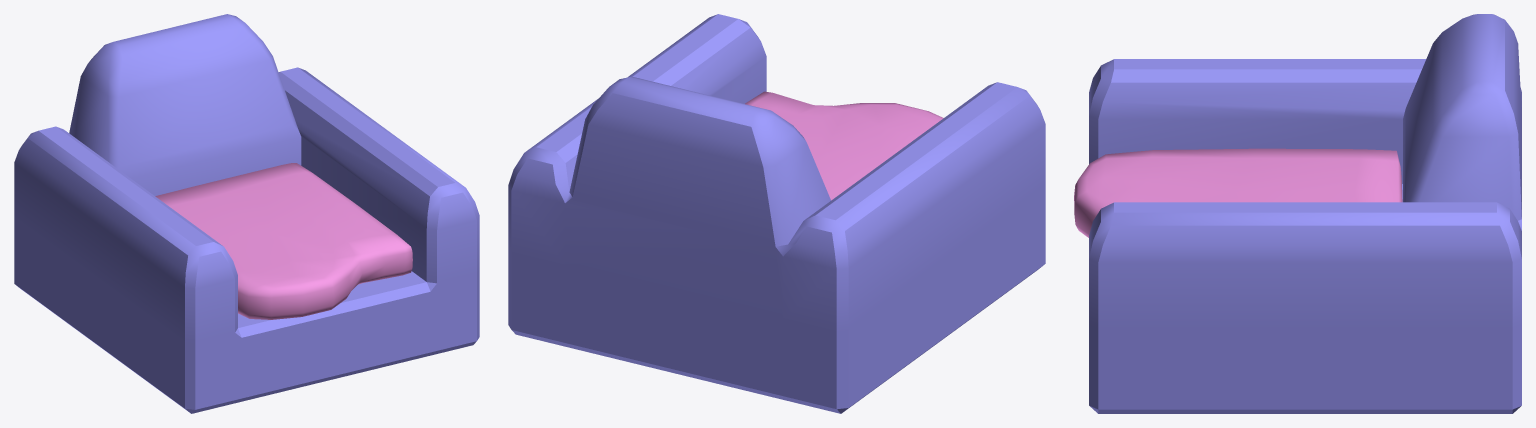
File: butaconFbx.FBX
The picture shows the model from 3 angles, left to right: view 1: azimuth 30°, elevation 25°; view 2: azimuth 150°, elevation 25°; view 3: azimuth 270°, elevation 25°; orthographic projection. The views are drawn at different scales.
Visible parts, largest first — view 1: Box001, buttPillow001; view 2: Box001, buttPillow001; view 3: Box001, buttPillow001.
Boxes of the visible parts, <box> form: Box001: <box>14,14,479,413</box>; buttPillow001: <box>155,163,412,319</box>; Box001: <box>508,14,1045,413</box>; buttPillow001: <box>745,91,943,200</box>; Box001: <box>1089,14,1521,413</box>; buttPillow001: <box>1074,148,1402,237</box>.
Size of the model in its own units: 45.12 by 34.05 by 48.89.
